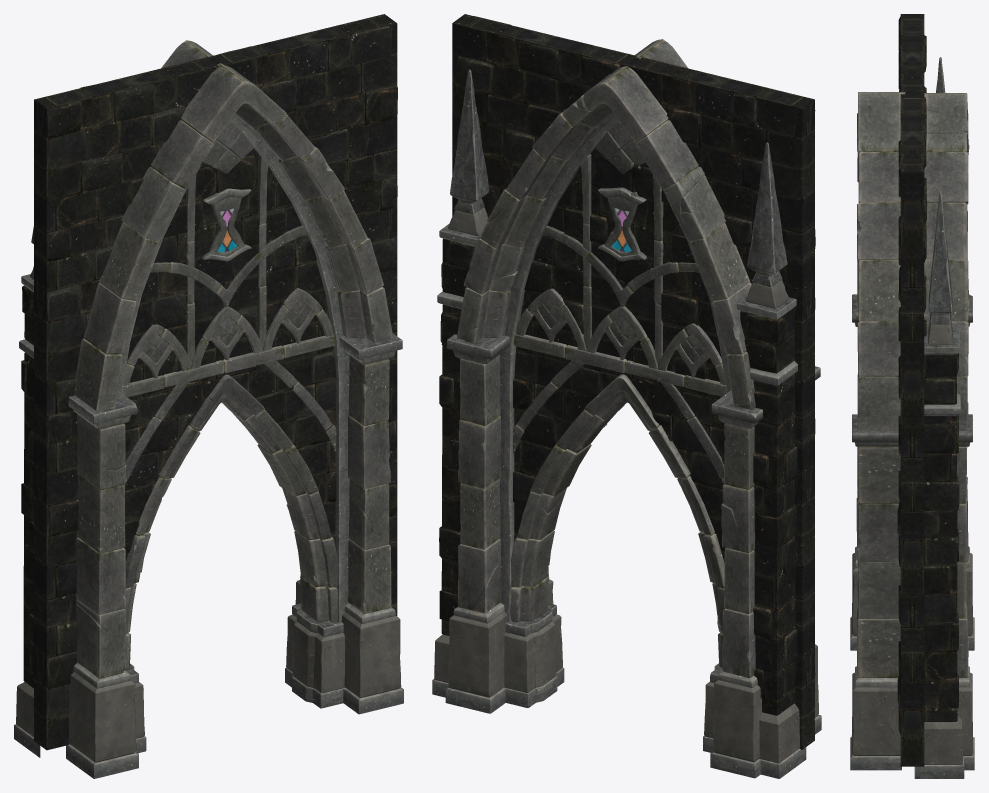
3 renders of one model, left to right at view 1: azimuth 30°, elevation 25°; view 2: azimuth 150°, elevation 25°; view 3: azimuth 270°, elevation 25°, orthographic. The views are drawn at different scales.
Visible parts, largest first — view 1: SM_DeathTemple_Door_01v1_LOD0; view 2: SM_DeathTemple_Door_01v1_LOD0; view 3: SM_DeathTemple_Door_01v1_LOD0.
Part boxes in pixels (box(x1,y1,x2,y2)): SM_DeathTemple_Door_01v1_LOD0: box(14, 14, 403, 778); SM_DeathTemple_Door_01v1_LOD0: box(432, 14, 821, 778); SM_DeathTemple_Door_01v1_LOD0: box(850, 14, 974, 778).
Size of the model in its own units: 8 by 14.32 by 2.65.
4 materials, 4 textured.
